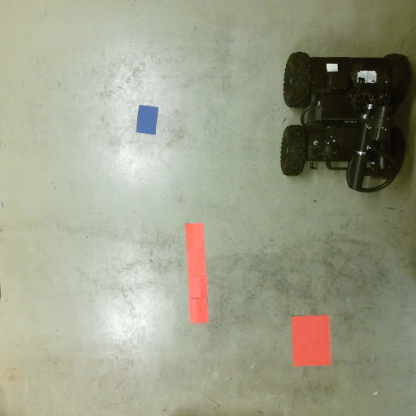Blue: (136, 103, 158, 136)
Jaguar: (279, 50, 410, 194)
Red: (184, 221, 210, 325), (291, 315, 333, 367)
